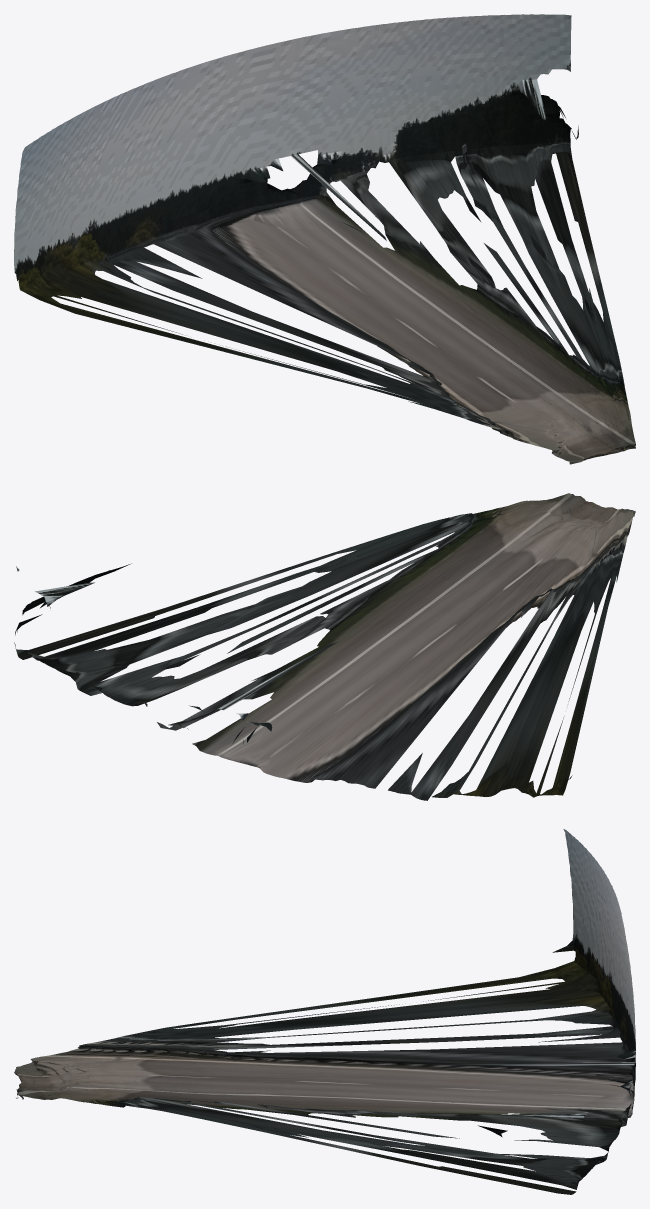
3 views of the same model, one above another, from view 1: azimuth 30°, elevation 25°; view 2: azimuth 150°, elevation 25°; view 3: azimuth 270°, elevation 25° (orthographic). The views are drawn at different scales.
Parts seen in each view (by area): view 1: defaultobject; view 2: defaultobject; view 3: defaultobject.
Boxes of the visible parts, <box> form: defaultobject: <box>14,14,635,464</box>; defaultobject: <box>14,493,635,800</box>; defaultobject: <box>14,829,635,1194</box>.
Bounding box in the file's own units: 41.09 × 12.52 × 44.45.
Materials: 1 (1 with a texture image).
